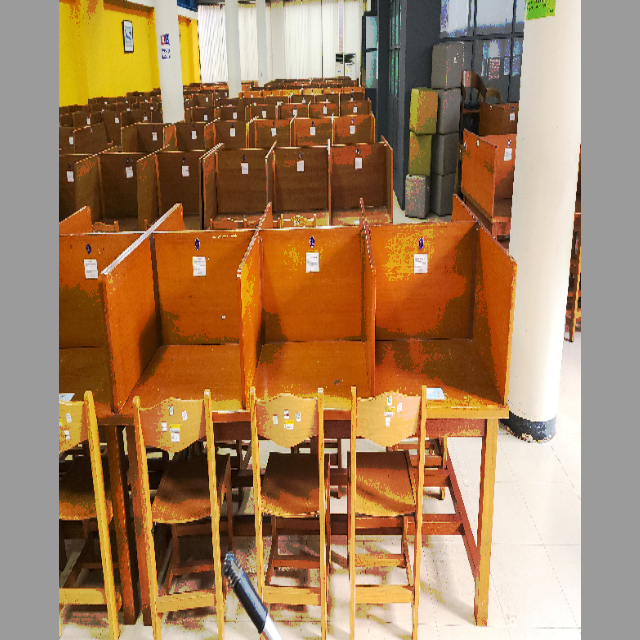empty: (103, 233, 251, 510), (384, 225, 511, 522), (261, 225, 374, 517)
